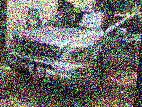car: (3, 0, 142, 100)
